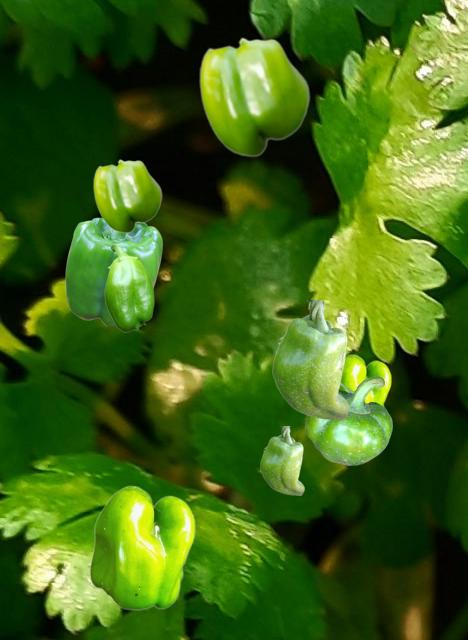bell_pepper: (199, 37, 309, 156), (89, 485, 194, 609), (65, 217, 161, 325), (272, 300, 348, 419), (305, 376, 391, 464), (93, 159, 161, 232), (104, 244, 153, 331), (260, 426, 303, 494), (340, 354, 390, 405)
